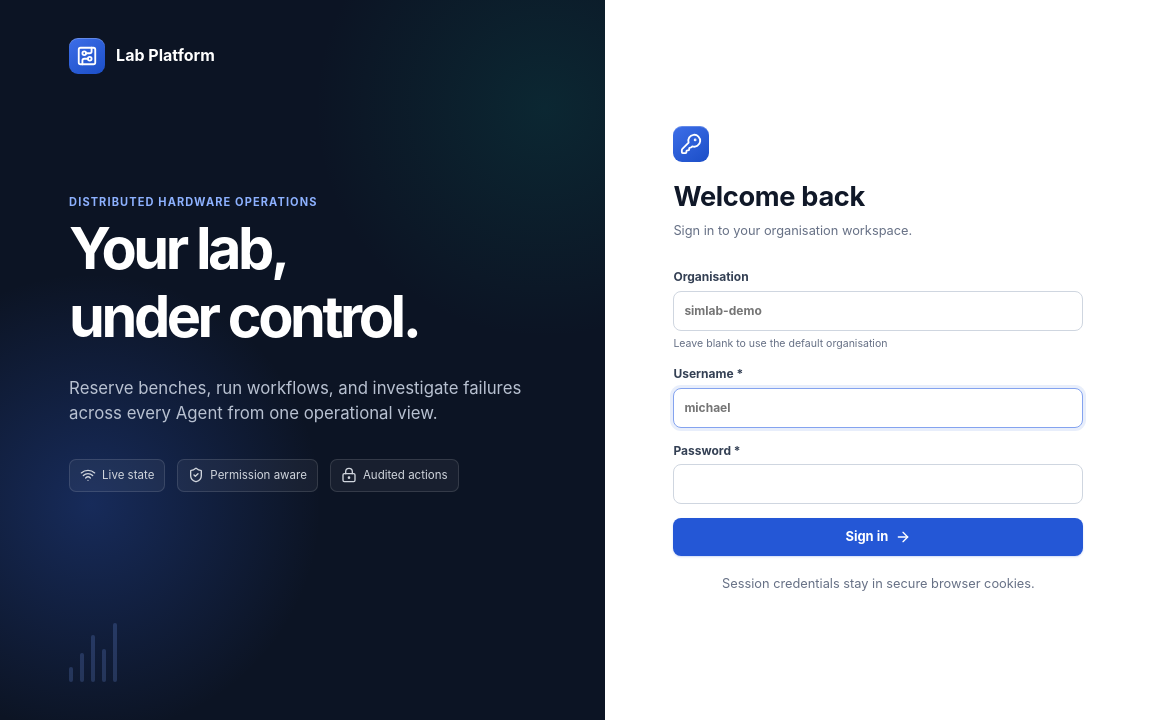
Test: core workflow accessibility acceptance › gives the local login workflow programmatic labels and announced validation errors
Expected: the heading "Your lab, under control." is shown, left=69, top=213, right=418, bottom=351
Expected: the heading "Welcome back" is shown, left=673, top=180, right=865, bottom=214
Click the button "Sign in" at (878, 537), box left=673, top=518, right=1083, bottom=556
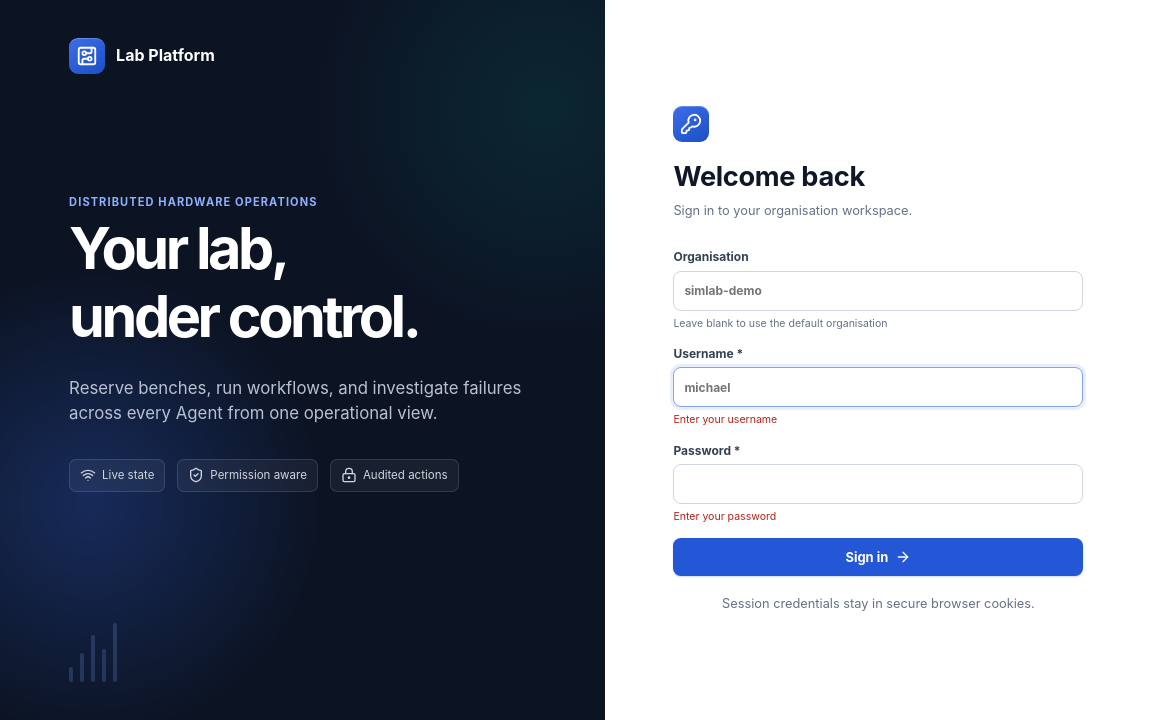
Expected: the number of messages is 2, left=673, top=413, right=777, bottom=426; left=673, top=510, right=776, bottom=523
Expected: the text "Enter your username" is shown, left=673, top=413, right=777, bottom=426
Expected: the text "Enter your password" is shown, left=673, top=510, right=776, bottom=523
